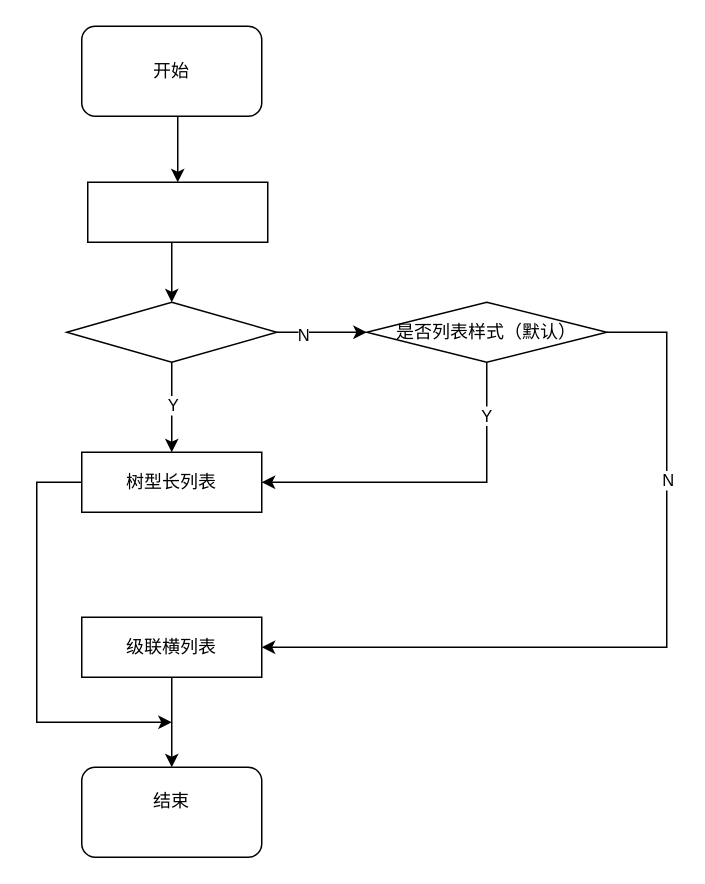
Some shapes in this 705 by 884 pixel diagram are drawn without their labels. Each missing label, with the box of its shape:
列表筛选组件: (86, 181, 268, 242)
是否移动端/小程序: (65, 301, 277, 362)
